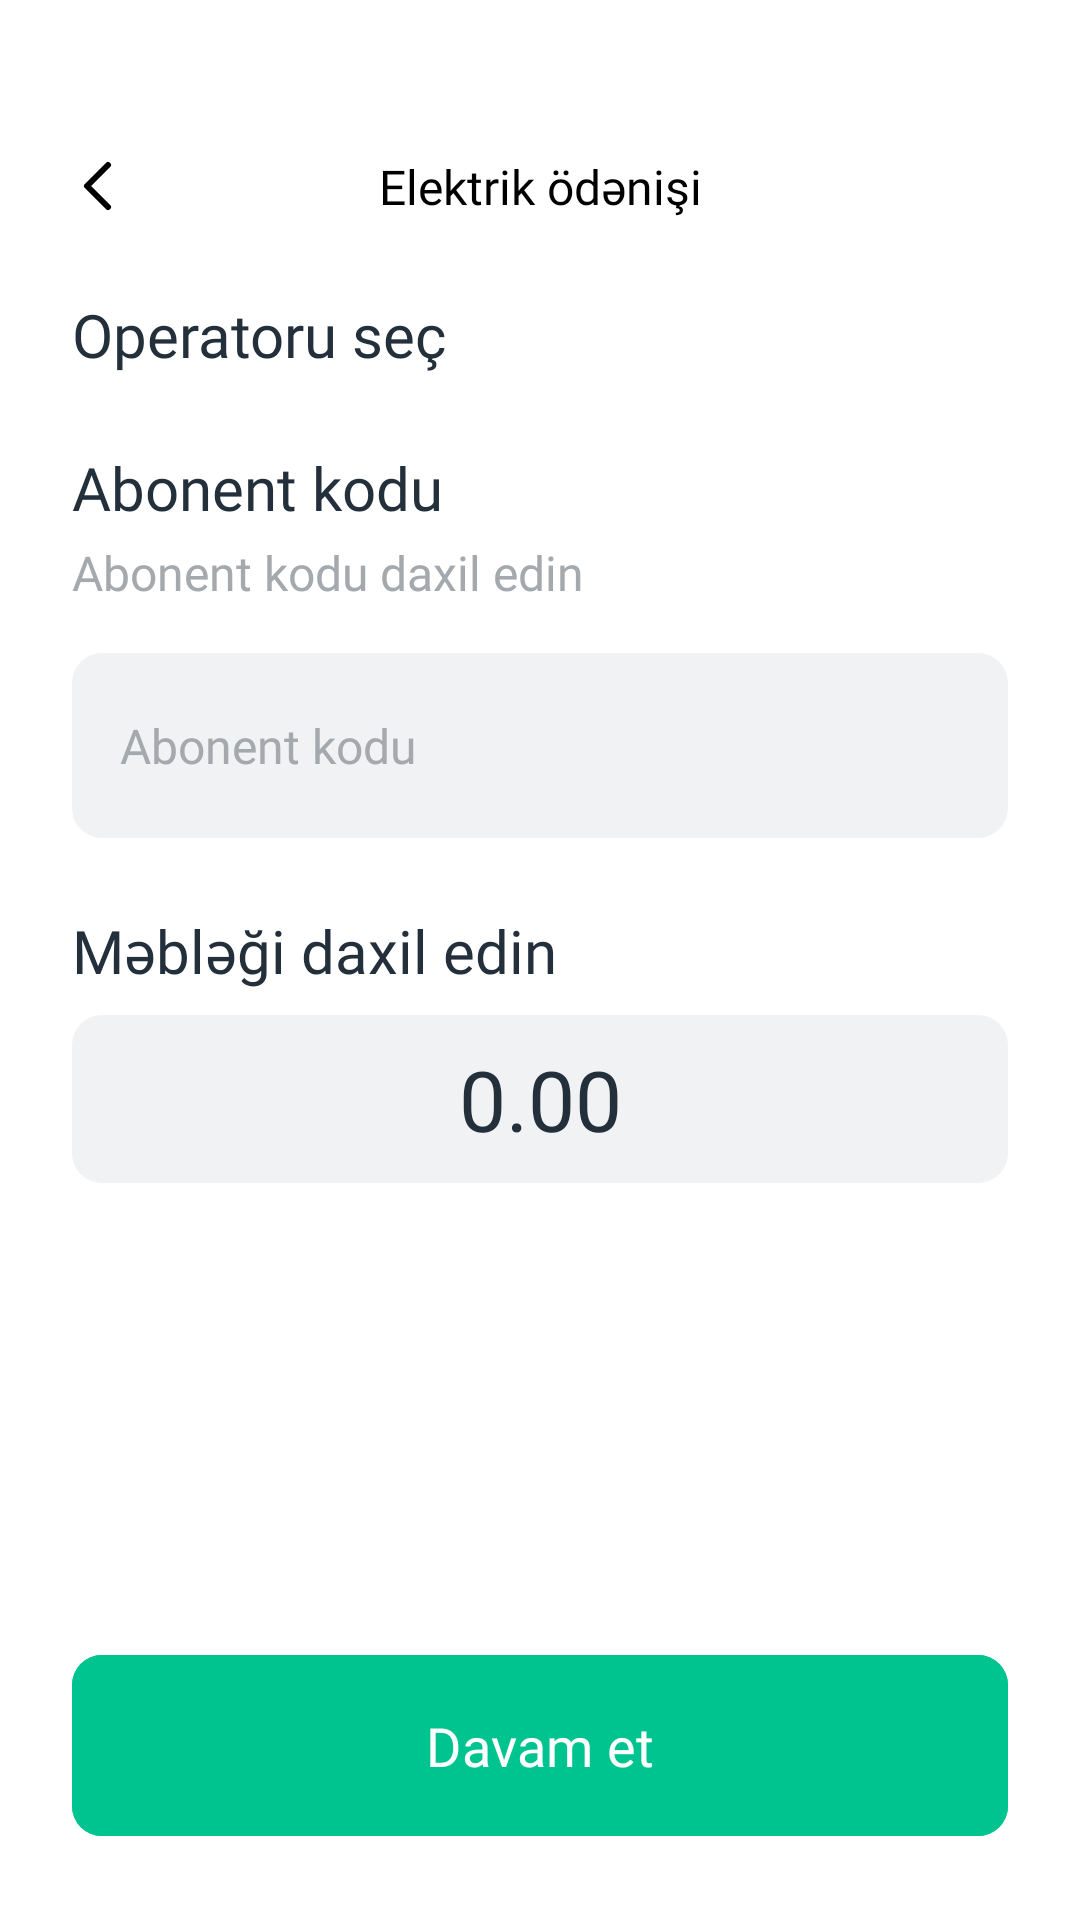

Where to tap for icons on this 1080w x 1920h app screen, as [x,y]:
back: [97,186]
